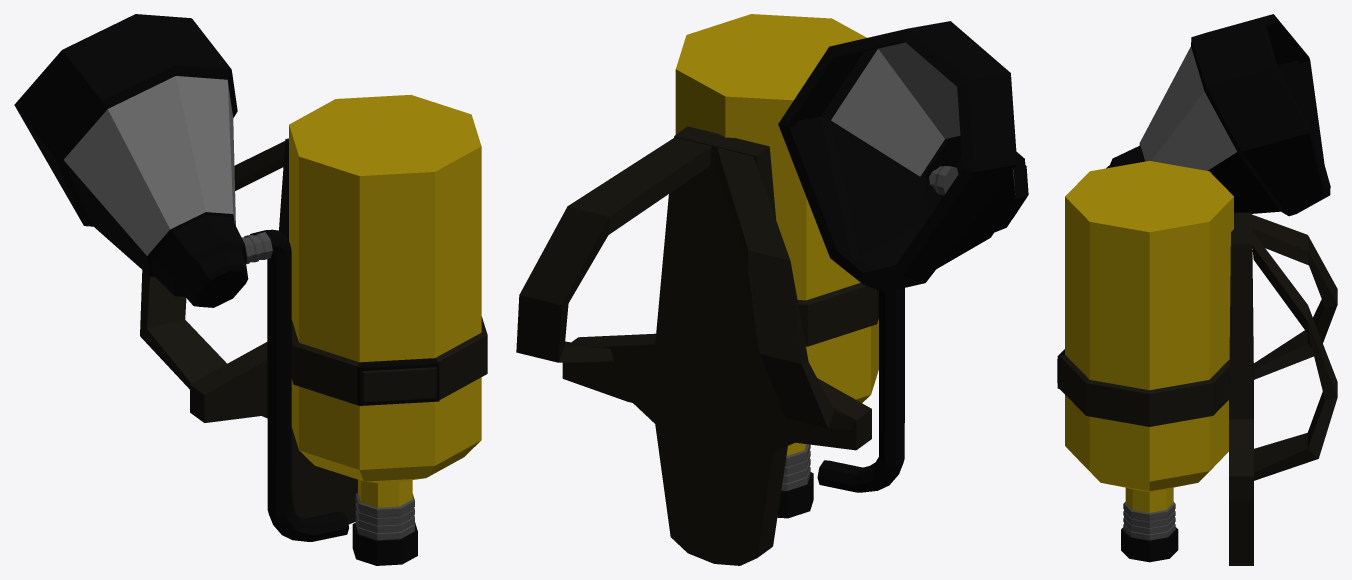
Rendered from Mochila de Oxigeno.fbx.
The picture shows the model from 3 angles, left to right: view 1: azimuth 30°, elevation 25°; view 2: azimuth 150°, elevation 25°; view 3: azimuth 270°, elevation 25°; orthographic projection. The views are drawn at different scales.
Parts seen in each view (by area): view 1: Cilindro.003; view 2: Cilindro.003; view 3: Cilindro.003.
Part boxes in pixels (left/top/right/bottom): Cilindro.003: left=14, top=14, right=487, bottom=565; Cilindro.003: left=516, top=14, right=1028, bottom=565; Cilindro.003: left=1057, top=14, right=1337, bottom=565.
Size of the model in its own units: 384 by 475 by 260.
